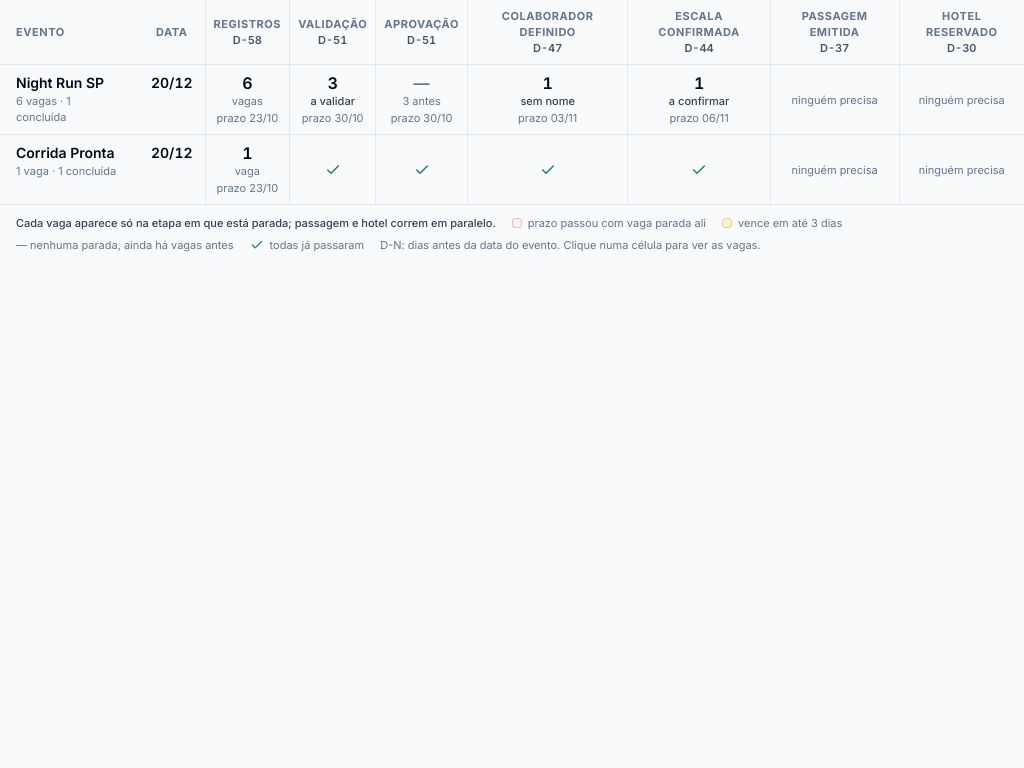
Scenario: Quadro de prazos — detalhe da célula › “3 a validar” abre o modal com exatamente essas 3, cada uma com #número e colaborador
This screenshot has width=1024, height=768.
Step 1. Click the button "3 a validar prazo 30/10" → [333, 100], box [290,65,375,134]
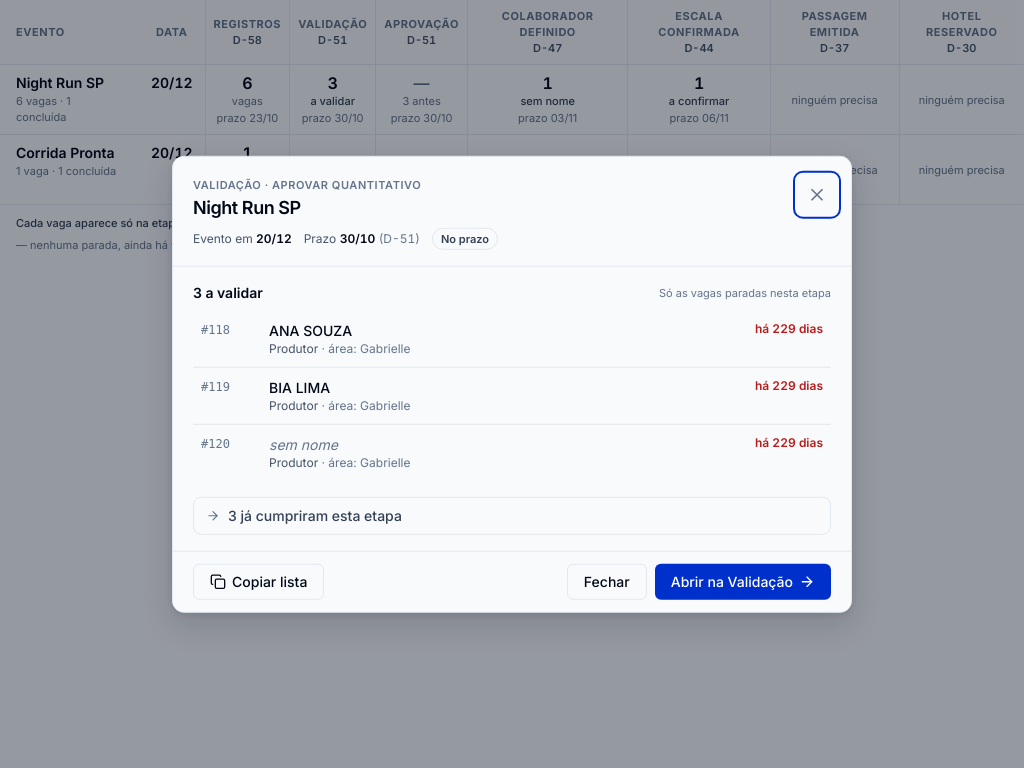
Check: the heading "Night Run SP" is shown, box [193,197,301,218]
Check: the heading with test id "detalhe-contagem" reads "3 a validar", box [193,283,263,300]
Check: the number of list items is 3, box [193,310,831,366]; [193,366,831,423]; [193,423,831,480]
